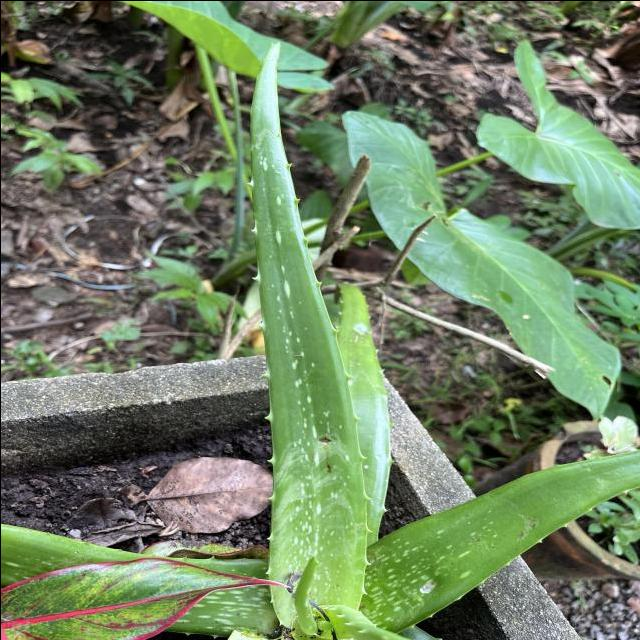Aloe vera: (242, 34, 375, 616)
